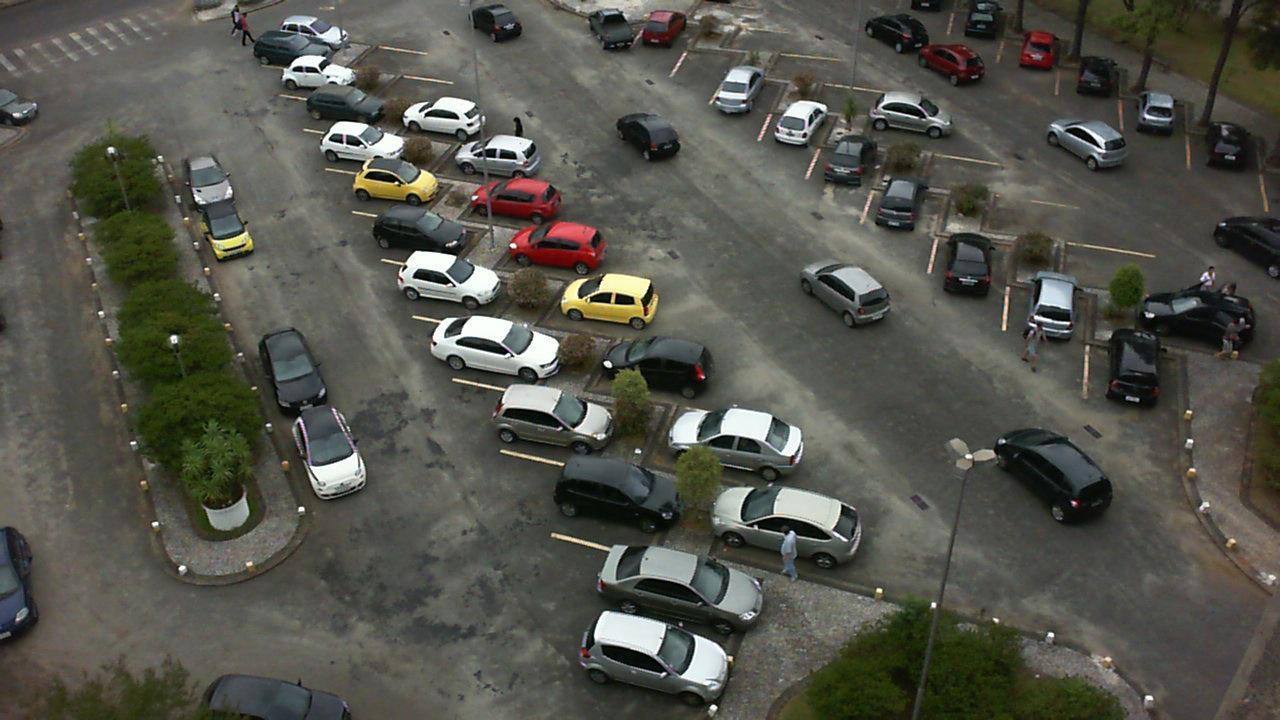empty: (1065, 231, 1169, 296), (992, 185, 1105, 240), (927, 140, 1028, 191), (819, 68, 916, 116), (670, 45, 745, 106), (349, 35, 438, 76), (732, 12, 821, 53), (383, 65, 472, 105), (778, 43, 857, 84)
occupied: (608, 526, 775, 654), (542, 439, 695, 539), (634, 397, 776, 485), (730, 478, 865, 570), (491, 366, 626, 456), (446, 304, 573, 386), (603, 324, 724, 402), (543, 264, 673, 334), (1139, 292, 1260, 362), (1083, 341, 1181, 421), (508, 216, 630, 277), (408, 252, 524, 316), (384, 198, 497, 263), (473, 167, 589, 225), (935, 223, 1013, 307), (1005, 271, 1085, 351), (404, 88, 515, 143), (343, 156, 450, 211), (863, 183, 946, 253), (801, 137, 884, 205), (316, 113, 413, 169), (863, 94, 976, 142), (629, 10, 703, 77), (760, 104, 832, 172), (445, 132, 544, 181), (709, 71, 784, 130), (301, 84, 393, 130), (1123, 84, 1182, 153), (278, 51, 364, 97), (1000, 33, 1064, 88), (1057, 56, 1118, 113)
